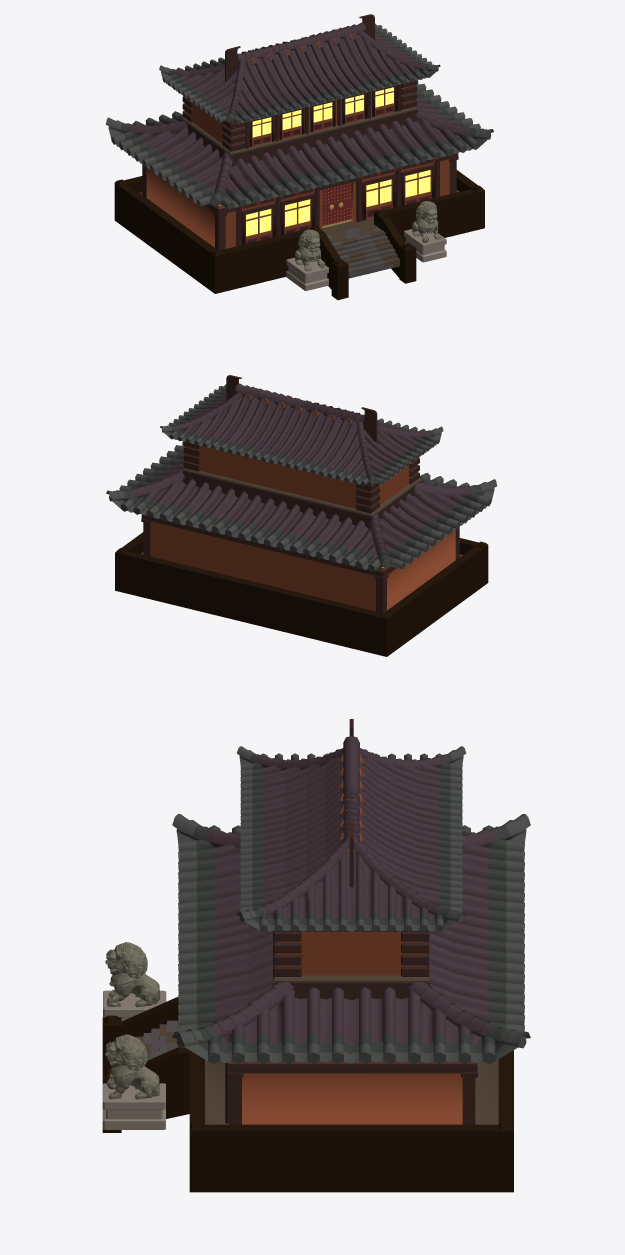
File: chinese_temple.glb
3 views of the same model, one above another, from view 1: azimuth 30°, elevation 25°; view 2: azimuth 150°, elevation 25°; view 3: azimuth 270°, elevation 25° (orthographic). The views are drawn at different scales.
Parts seen in each view (by area): view 1: LionRight_Lion.001_0, MainTempleRoof_Roof2_0, MainTempleRoof_Roof3_0, MainTempleWindows_Wood4_0, LionRight_Pedestal.001_0; view 2: LionRight_Lion.001_0, MainTempleRoof_Roof2_0, MainTempleRoof_Roof3_0; view 3: LionRight_Lion.001_0, MainTempleRoof_Roof2_0, MainTempleRoof_Roof3_0, LionRight_Pedestal.001_0.
Part boxes in pixels (bbox=[...]): LionRight_Lion.001_0: bbox=[114, 14, 484, 299]; MainTempleRoof_Roof2_0: bbox=[105, 23, 493, 209]; MainTempleRoof_Roof3_0: bbox=[119, 26, 477, 203]; MainTempleWindows_Wood4_0: bbox=[218, 87, 430, 236]; LionRight_Pedestal.001_0: bbox=[286, 183, 446, 290]; LionRight_Lion.001_0: bbox=[115, 375, 488, 656]; MainTempleRoof_Roof2_0: bbox=[106, 384, 497, 571]; MainTempleRoof_Roof3_0: bbox=[122, 387, 483, 564]; LionRight_Lion.001_0: bbox=[102, 719, 513, 1192]; MainTempleRoof_Roof2_0: bbox=[172, 746, 530, 1064]; MainTempleRoof_Roof3_0: bbox=[191, 753, 511, 1053]; LionRight_Pedestal.001_0: bbox=[102, 990, 166, 1129].
Bounding box in the file's own units: 3086 × 1627 × 2389.
Materials: 7 (7 with a texture image).
